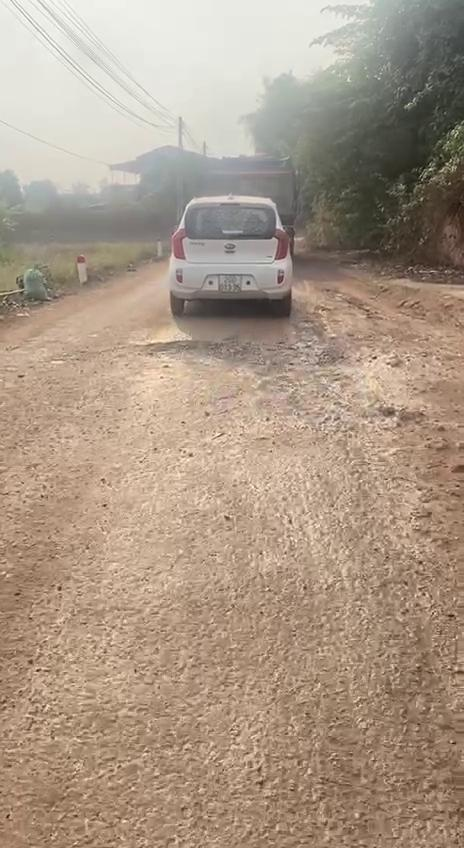pothole: (118, 336, 276, 366)
